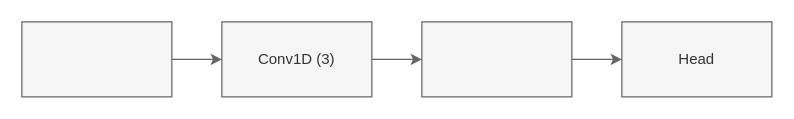
Some shapes in this 794 by 119 pixel diagram are drawn without their labels. The shapes that lost their labels are listed below. From the top down, each one's centre as x and y in pixels, then its label:
[96,59]: Embedding
[496,59]: SDPA
